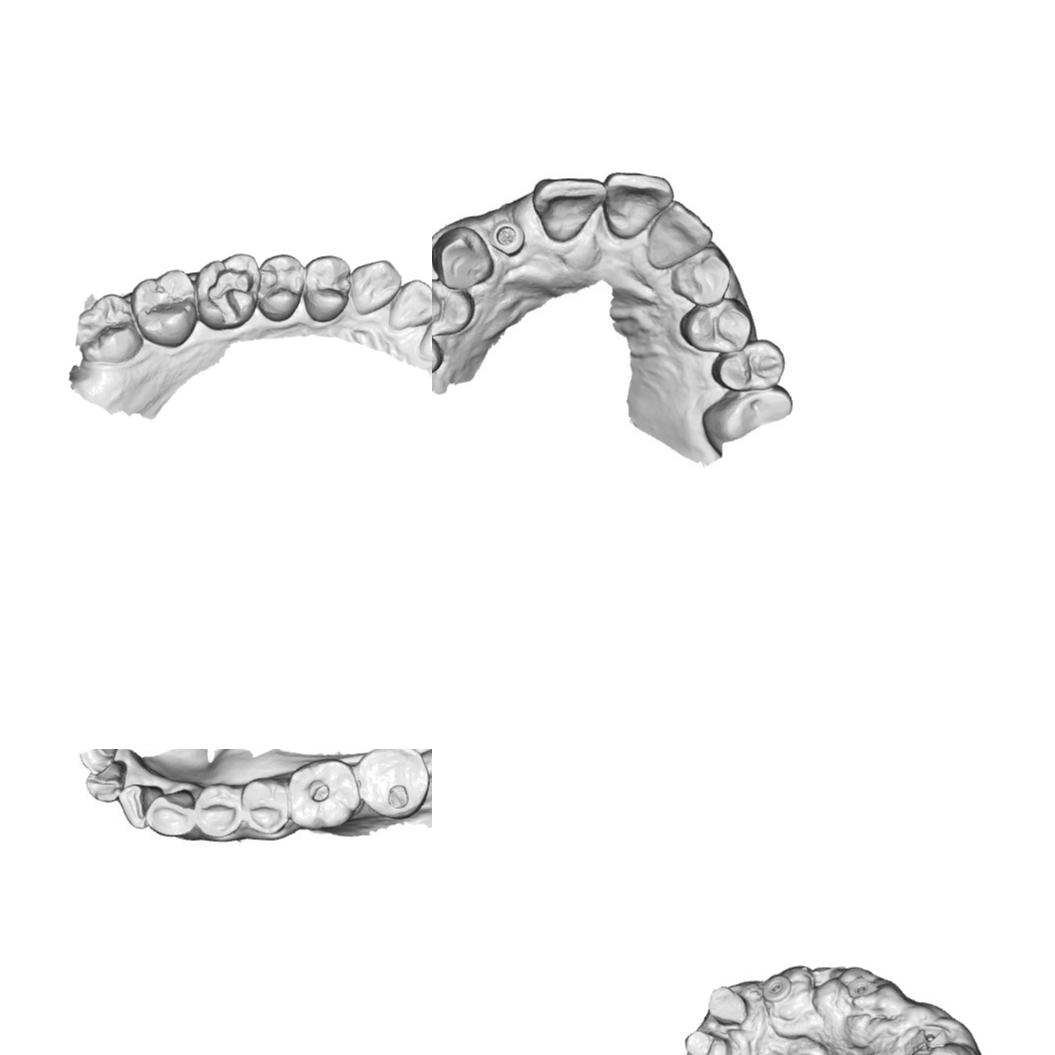canine: (432, 227, 496, 295), (346, 257, 402, 316), (144, 788, 199, 838), (675, 254, 727, 300)
crown: (707, 984, 749, 1026), (684, 1029, 732, 1055)
implant: (487, 210, 530, 264), (760, 973, 793, 1003), (845, 974, 881, 998)
incisor: (642, 198, 715, 270), (535, 175, 605, 242), (605, 172, 670, 237), (387, 276, 432, 332), (82, 758, 126, 805), (118, 781, 161, 829), (417, 299, 432, 364)
inlay: (204, 264, 254, 327)
molar: (285, 756, 360, 832), (130, 266, 197, 348), (74, 290, 146, 366), (355, 749, 430, 819)
premolar: (674, 301, 755, 355), (711, 339, 786, 394), (302, 252, 352, 324), (258, 250, 306, 324), (240, 776, 288, 837), (195, 781, 242, 838), (432, 283, 470, 339)
